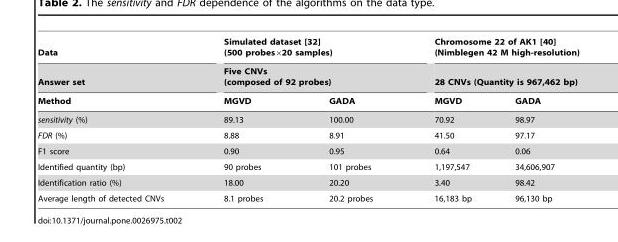table: (37, 37, 578, 202)
table column: (37, 37, 193, 202), (295, 37, 402, 202), (193, 37, 295, 202), (402, 37, 492, 202), (492, 37, 578, 202)
table column header: (37, 37, 578, 110)
table row: (37, 61, 578, 91), (37, 37, 578, 61), (37, 91, 578, 110), (37, 110, 578, 127), (37, 127, 578, 143), (37, 158, 578, 174), (37, 174, 578, 190), (37, 143, 578, 158), (37, 190, 578, 202)
table spanning cell: (37, 37, 193, 110), (193, 37, 402, 91), (402, 37, 578, 91)
